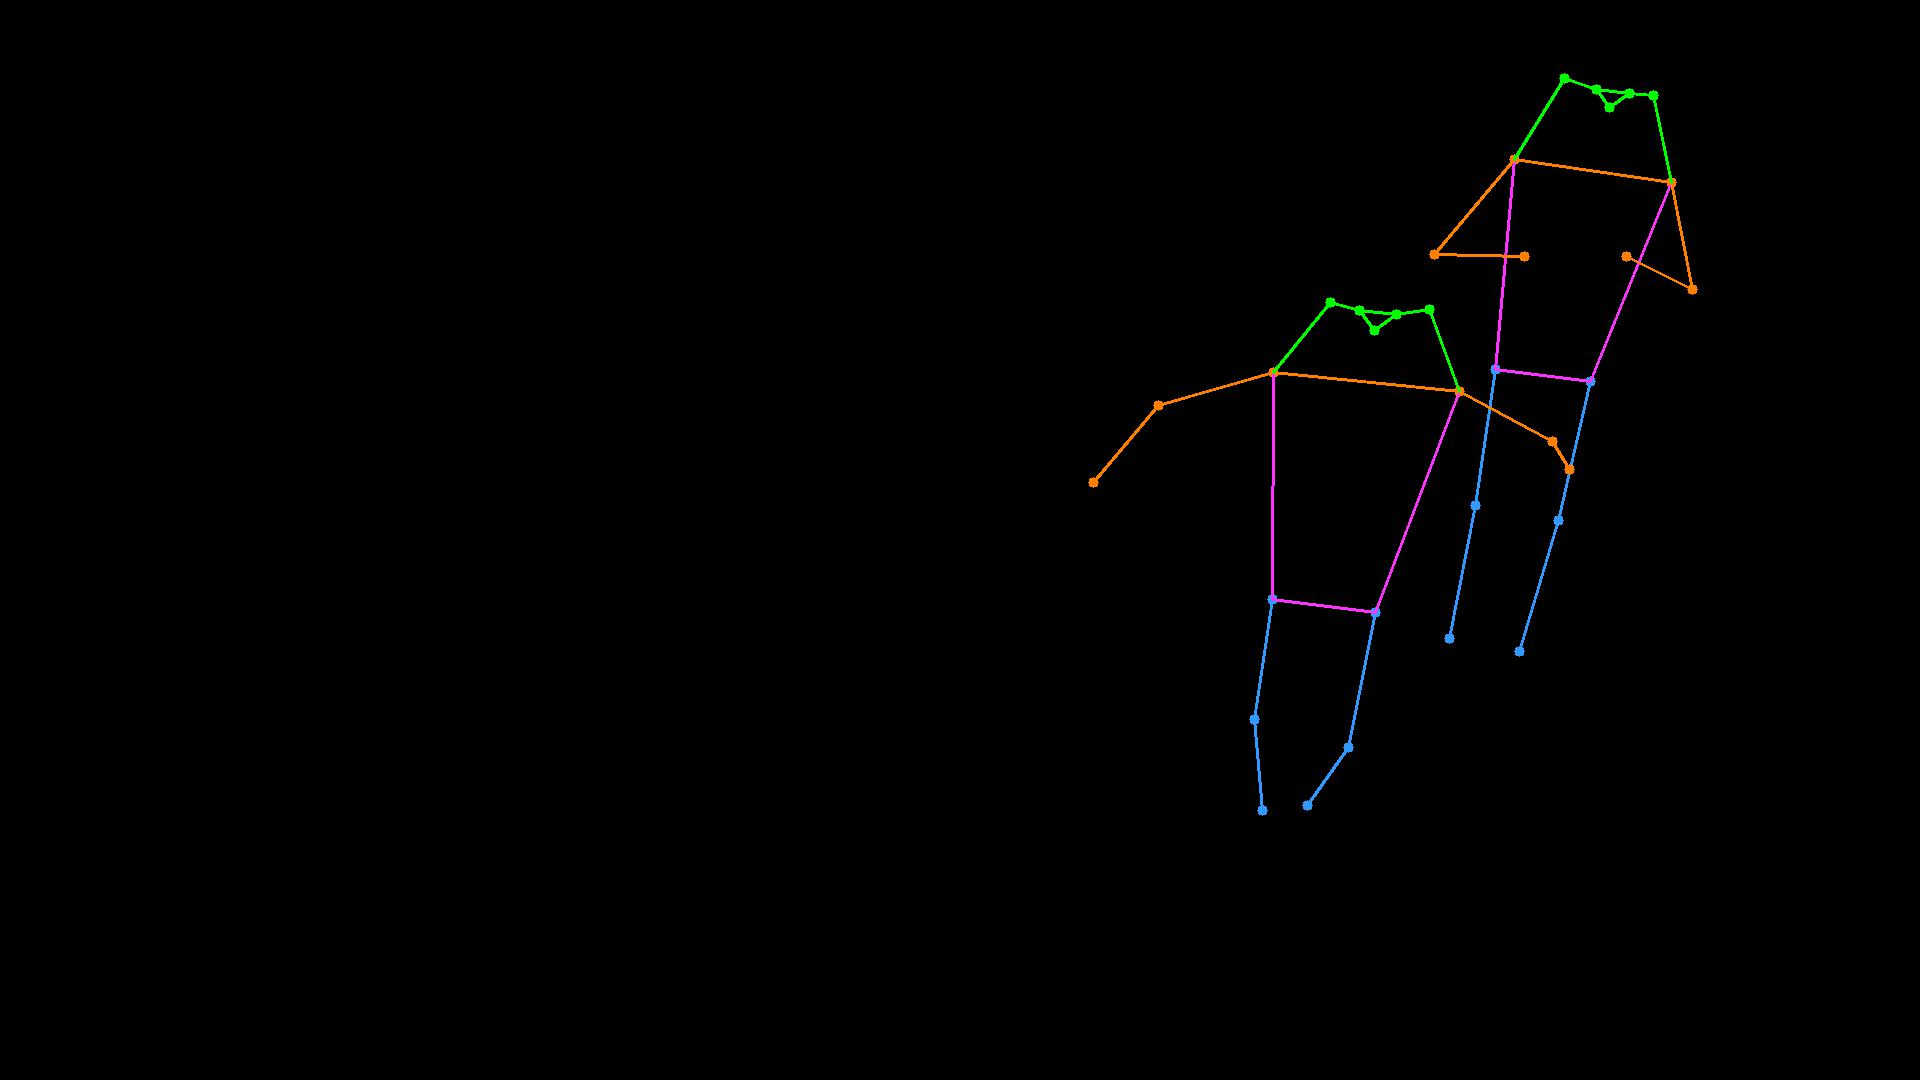normal: (1038, 36, 1709, 864)
